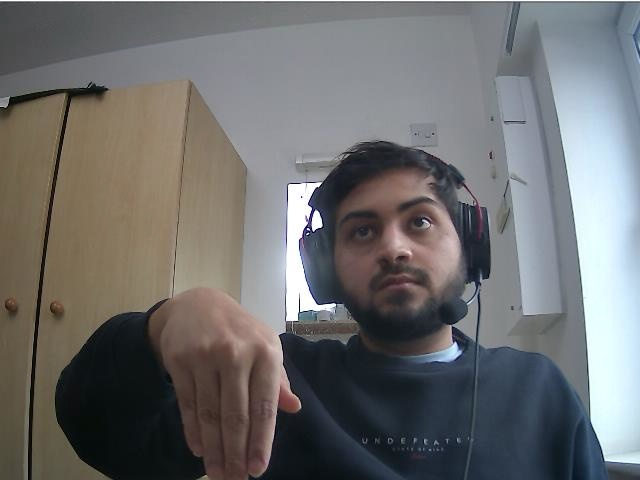down: (169, 329, 301, 480)
